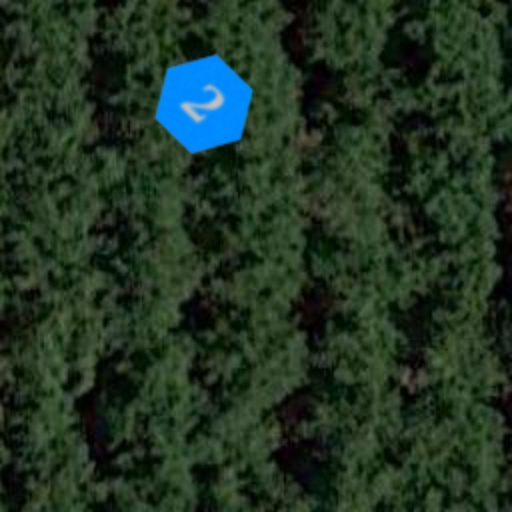hexagon: (130, 30, 278, 178)
